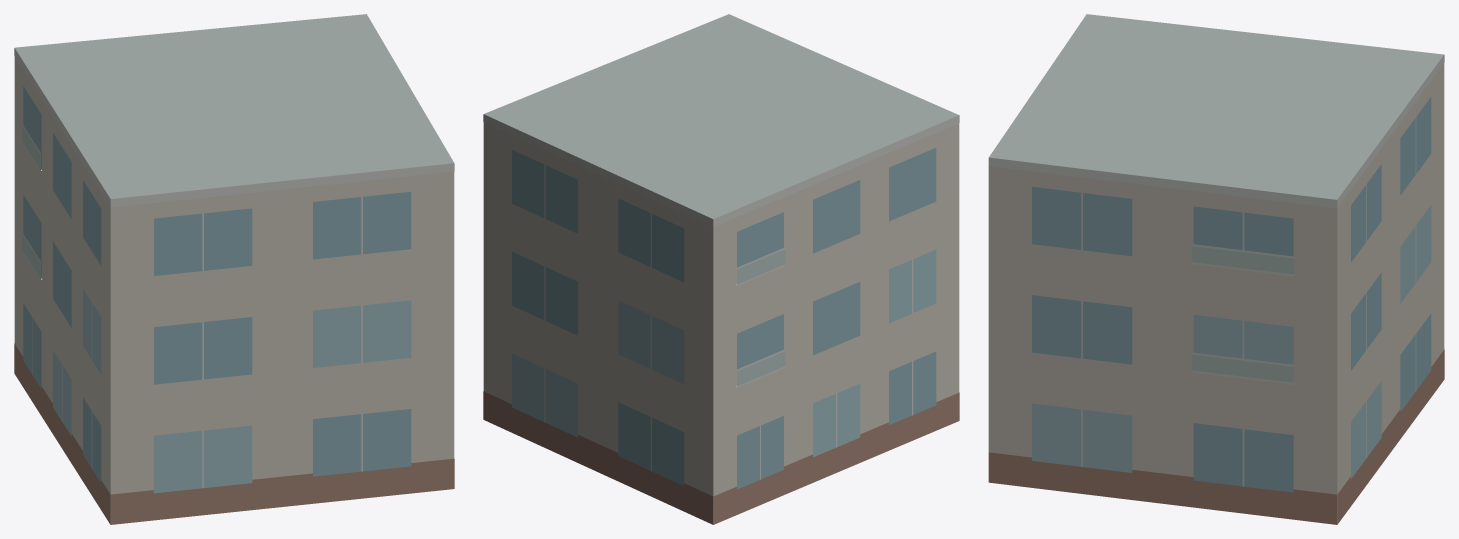
File: survey-upis-32873609.glb
The picture shows the model from 3 angles, left to right: view 1: azimuth 30°, elevation 25°; view 2: azimuth 150°, elevation 25°; view 3: azimuth 270°, elevation 25°; orthographic projection. The views are drawn at different scales.
Parts seen in each view (by area): view 1: survey-upis-32873609.tmp; view 2: survey-upis-32873609.tmp; view 3: survey-upis-32873609.tmp.
Boxes of the visible parts, left/top/right/bottom form: survey-upis-32873609.tmp: left=14, top=14, right=454, bottom=524; survey-upis-32873609.tmp: left=483, top=14, right=959, bottom=524; survey-upis-32873609.tmp: left=988, top=14, right=1444, bottom=524.
Bounding box in the file's own units: 11.6 × 9.45 × 12.02.
